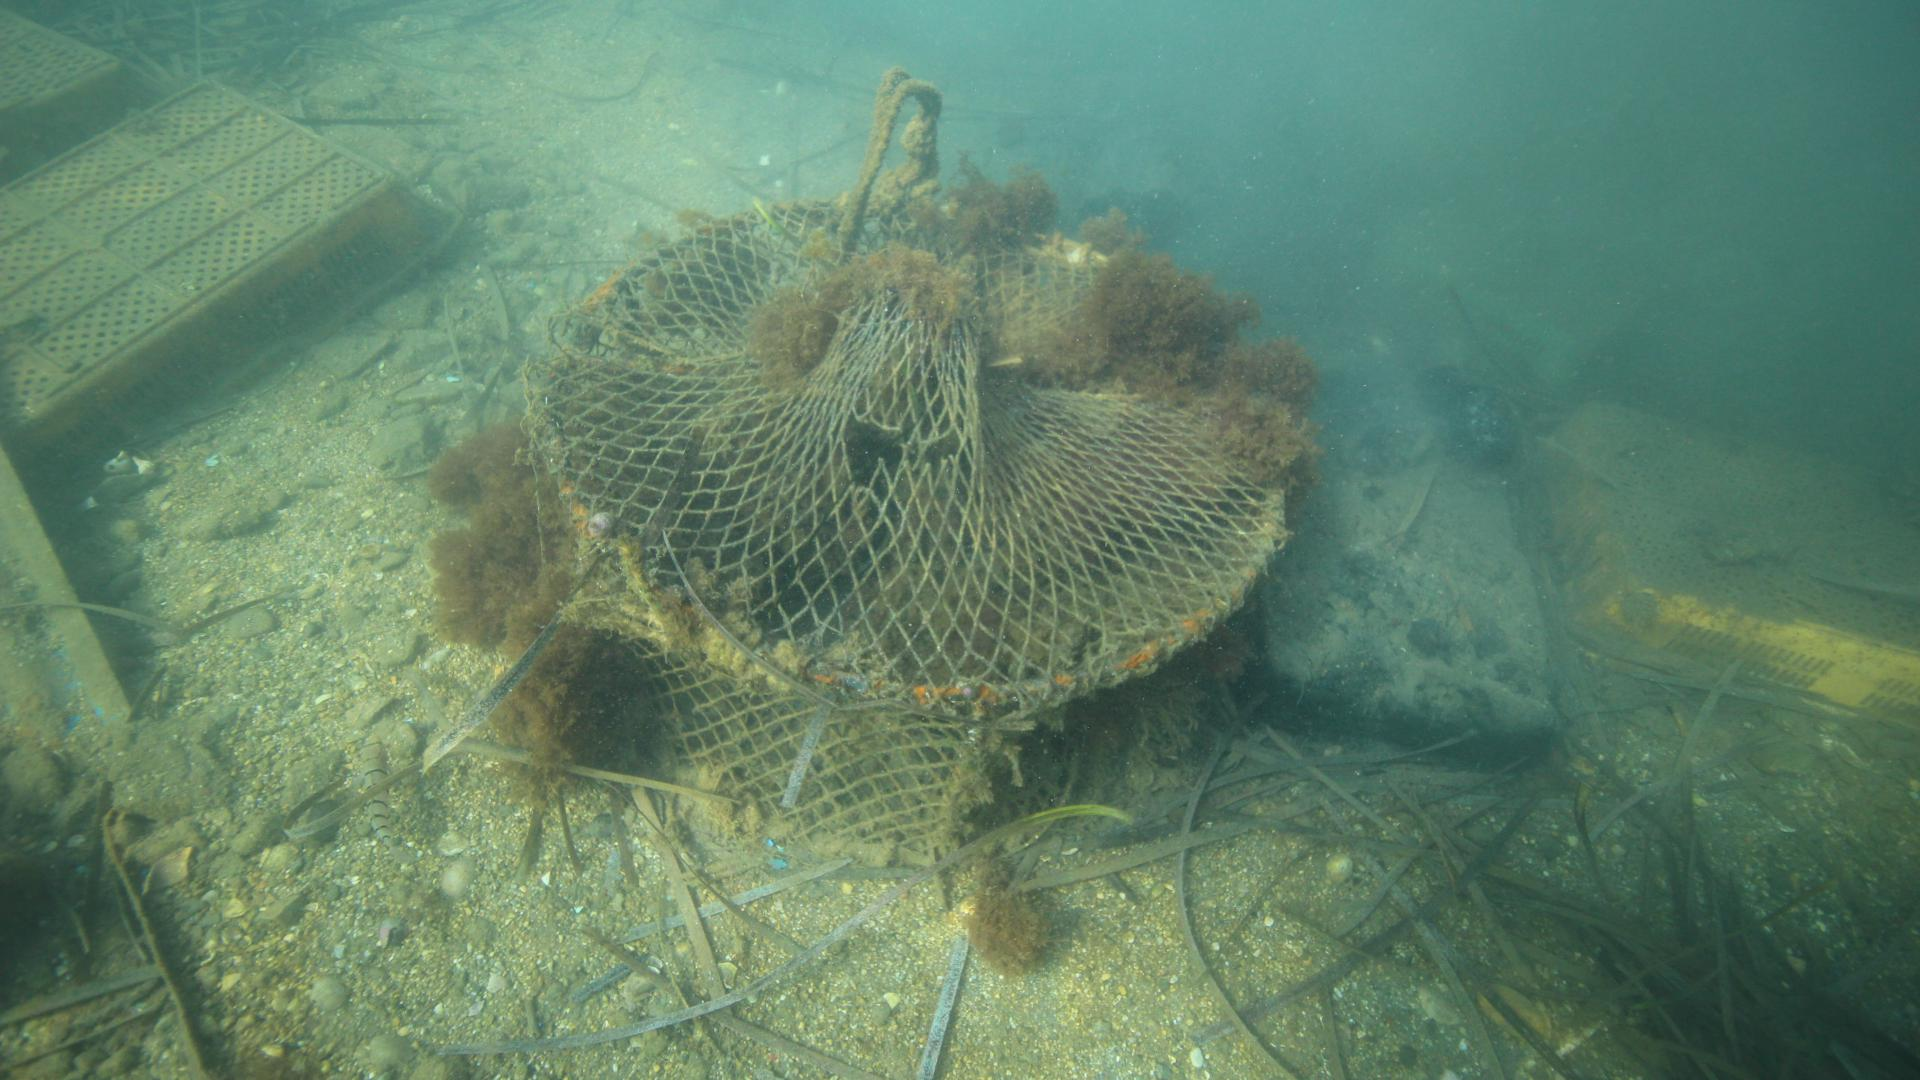bundle of ropes: (835, 63, 945, 245)
circular fish trap: (522, 190, 1290, 872)
